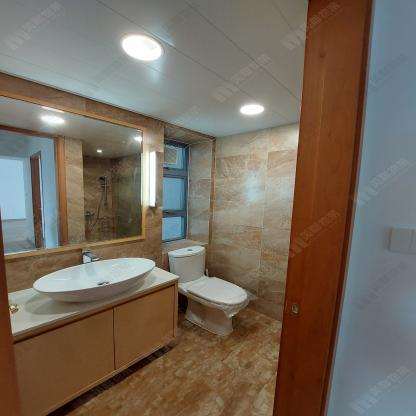Exhaust Fan: (163, 146, 178, 165)
Faucet: (77, 246, 101, 263)
Toilet: (168, 246, 248, 334)
Toilet Sink: (32, 257, 156, 302)
